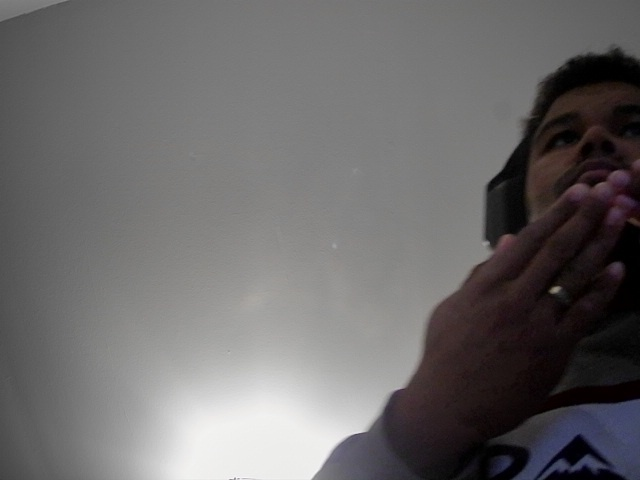ThankYou: (376, 148, 640, 454)
